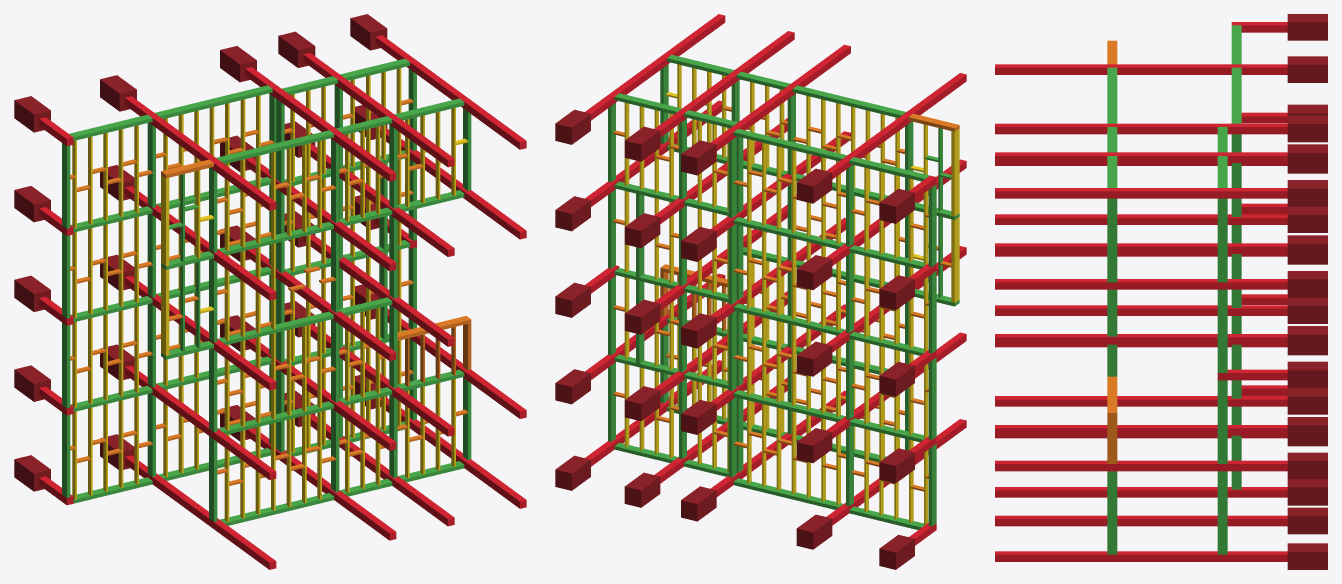
File: tinker.obj
3 renders of one model, left to right at view 1: azimuth 30°, elevation 25°; view 2: azimuth 150°, elevation 25°; view 3: azimuth 270°, elevation 25°, orthographic. The views are drawn at different scales.
Parts seen in each view (by area): view 1: obj_2, obj_1, obj_3, obj_4, obj_20, obj_15, obj_13, obj_12, obj_6, obj_11, obj_21, obj_16 (+56 smaller); view 2: obj_1, obj_4, obj_3, obj_2, obj_13, obj_9, obj_12, obj_7, obj_21, obj_23, obj_16, obj_20 (+68 smaller); view 3: obj_18, obj_2, obj_22, obj_4, obj_9, obj_23, obj_13, obj_1, obj_3, obj_8, obj_17, obj_16 (+46 smaller).
Boxes of the visible parts, box(x1,y1,x2,y2) form: obj_2: box(245, 67, 396, 181); obj_1: box(125, 96, 276, 210); obj_3: box(303, 53, 454, 167); obj_4: box(375, 35, 526, 149); obj_20: box(125, 455, 276, 569); obj_15: box(125, 365, 276, 479); obj_13: box(303, 234, 454, 346); obj_12: box(245, 248, 396, 360); obj_6: box(125, 186, 276, 300); obj_11: box(125, 276, 276, 390); obj_21: box(245, 428, 396, 540); obj_16: box(245, 338, 396, 450); obj_1: box(826, 73, 966, 179); obj_4: box(585, 14, 725, 120); obj_3: box(654, 31, 794, 137); obj_2: box(710, 44, 850, 150); obj_13: box(654, 204, 787, 310); obj_9: box(585, 100, 721, 206); obj_12: box(710, 217, 845, 323); obj_7: box(710, 131, 850, 237); obj_21: box(710, 390, 845, 496); obj_23: box(585, 360, 721, 466); obj_16: box(710, 304, 845, 410); obj_20: box(826, 419, 966, 525); obj_18: box(995, 460, 1287, 471); obj_2: box(995, 123, 1287, 134); obj_22: box(995, 515, 1287, 526); obj_4: box(995, 188, 1287, 198); obj_9: box(995, 279, 1287, 289); obj_23: box(995, 551, 1287, 561); obj_13: box(995, 334, 1287, 344); obj_1: box(995, 64, 1287, 74); obj_3: box(995, 152, 1287, 162); obj_8: box(995, 243, 1287, 253); obj_17: box(995, 425, 1287, 435); obj_16: box(995, 396, 1287, 406).
Size of the model in its own units: 103 by 105 by 83.
